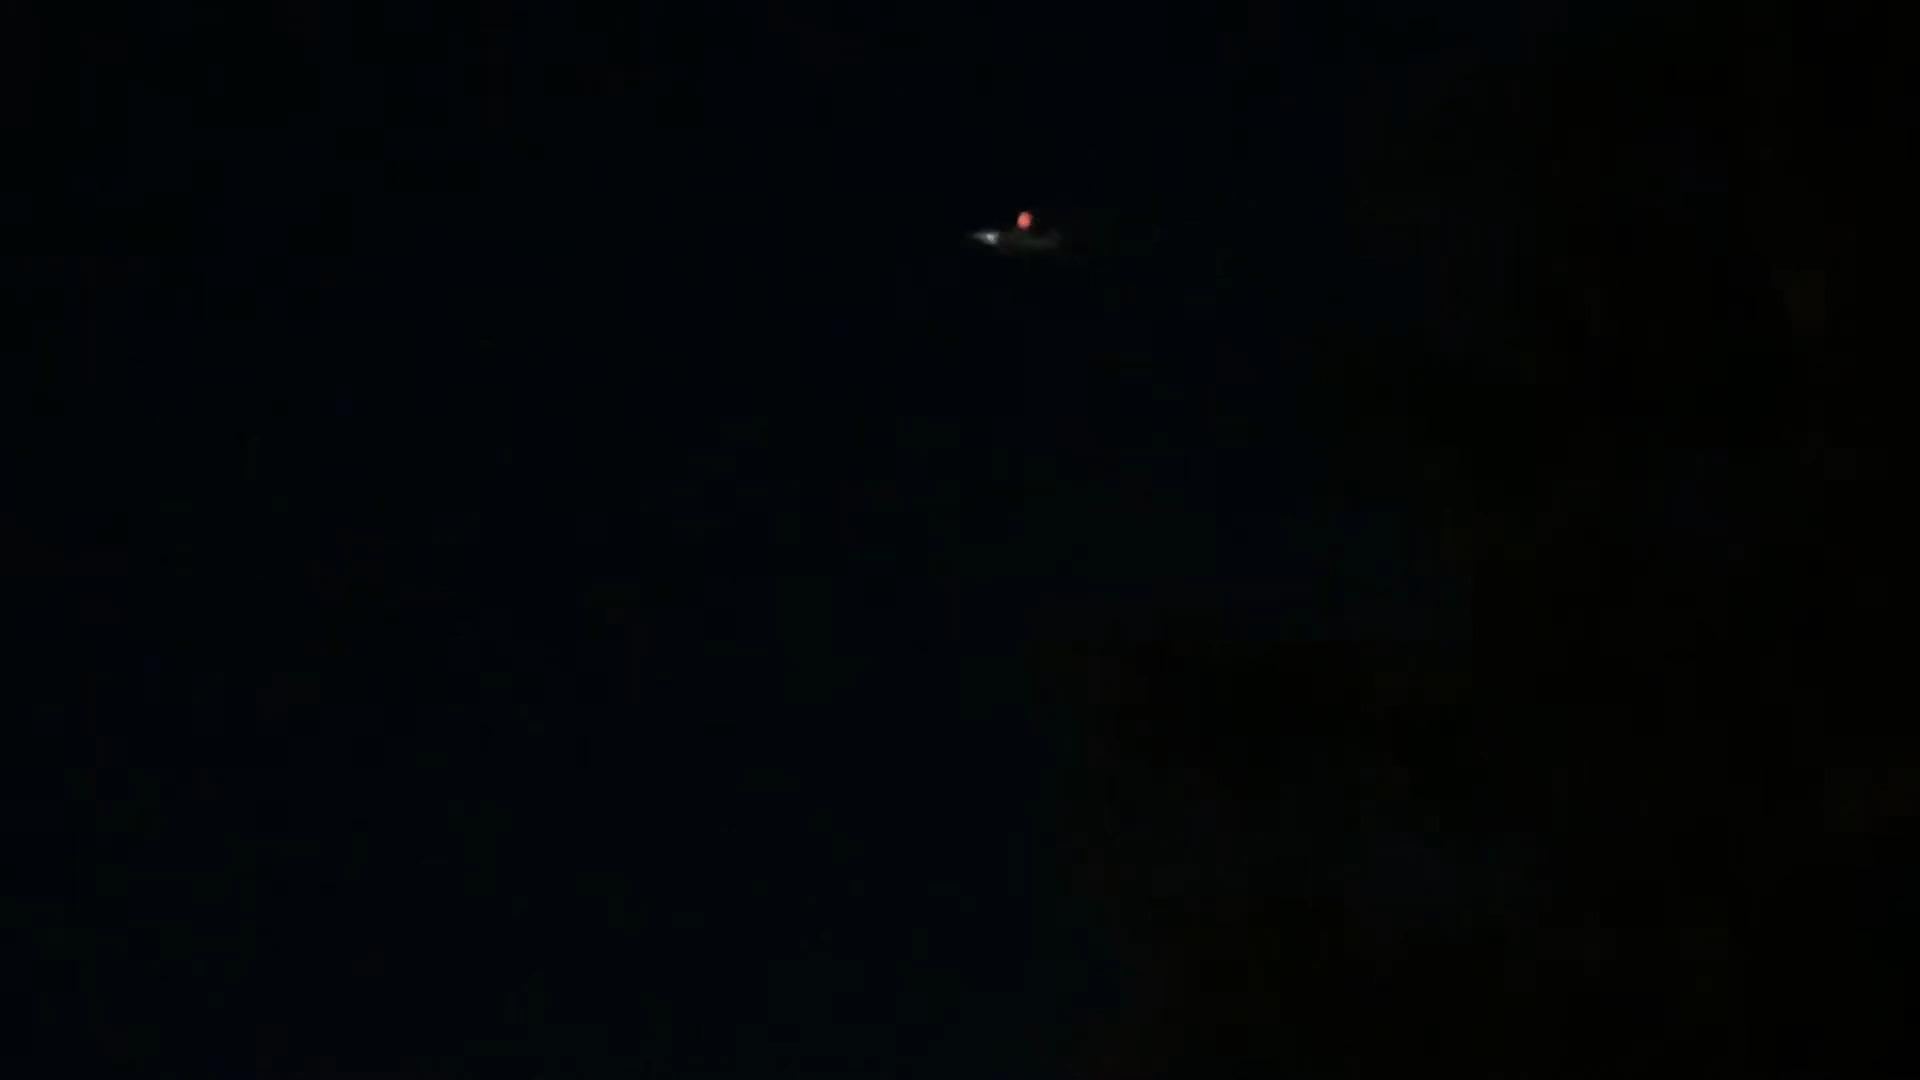Plane: (899, 196, 1139, 265)
